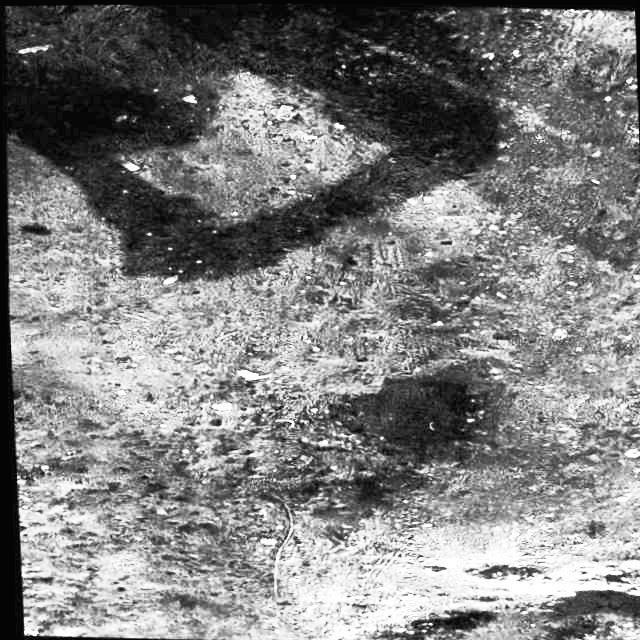Pothole: (304, 353, 497, 478)
